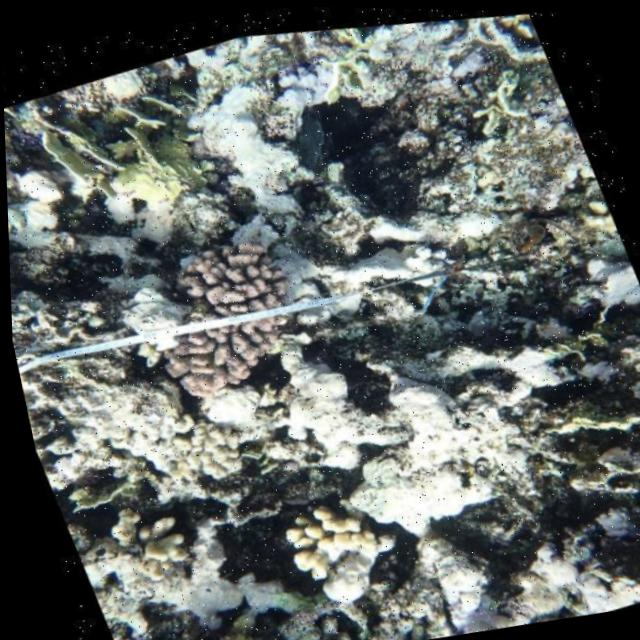Bleached Coral: (247, 459, 429, 640), (67, 464, 219, 619)
Healthy Coral: (151, 233, 302, 410)
